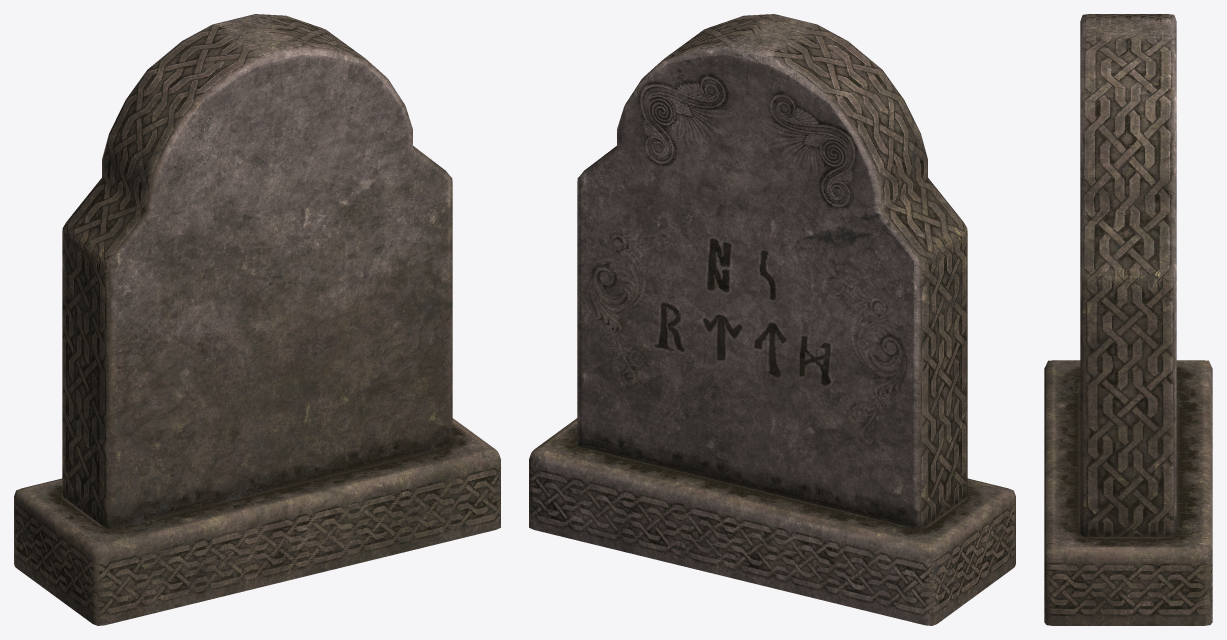
File: SM_gravestone_12.fbx
The picture shows the model from 3 angles, left to right: view 1: azimuth 30°, elevation 25°; view 2: azimuth 150°, elevation 25°; view 3: azimuth 270°, elevation 25°; orthographic projection. The views are drawn at different scales.
Visible parts, largest first — view 1: SM_gravestone_012; view 2: SM_gravestone_012; view 3: SM_gravestone_012.
Boxes of the visible parts, bbox=[...] form: SM_gravestone_012: bbox=[14, 14, 500, 625]; SM_gravestone_012: bbox=[529, 14, 1015, 625]; SM_gravestone_012: bbox=[1044, 14, 1212, 625].
Bounding box in the file's own units: 69.19 × 83.17 × 25.35.
